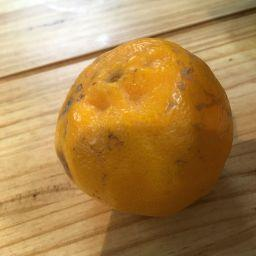Unripe: (57, 40, 233, 216)
